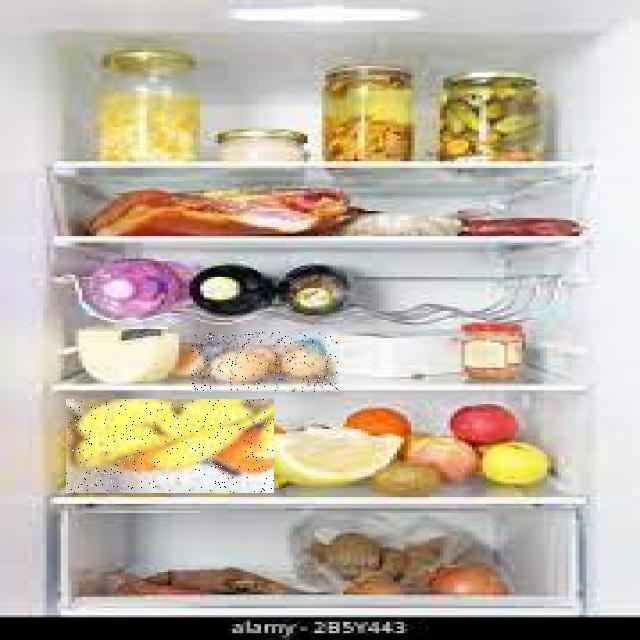Banana: (66, 399, 274, 493)
Eggs: (190, 332, 338, 392)
